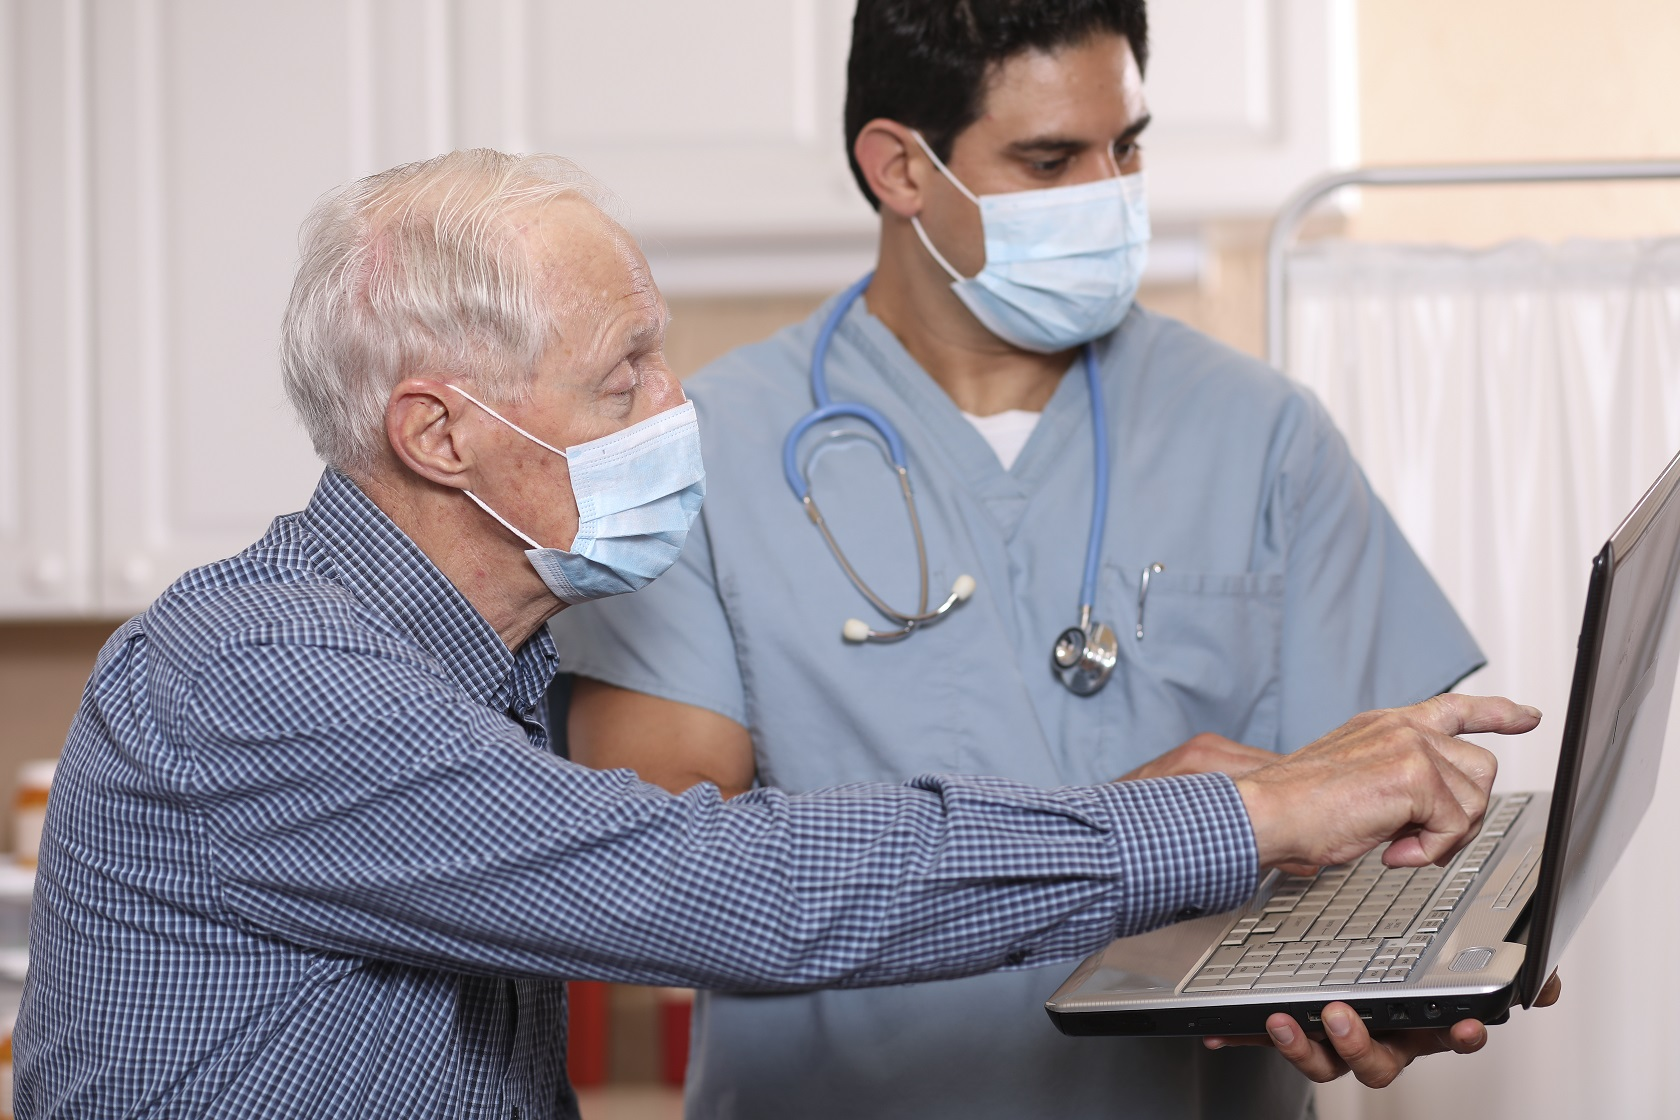with_mask: (968, 70, 1149, 348), (541, 299, 697, 587)
